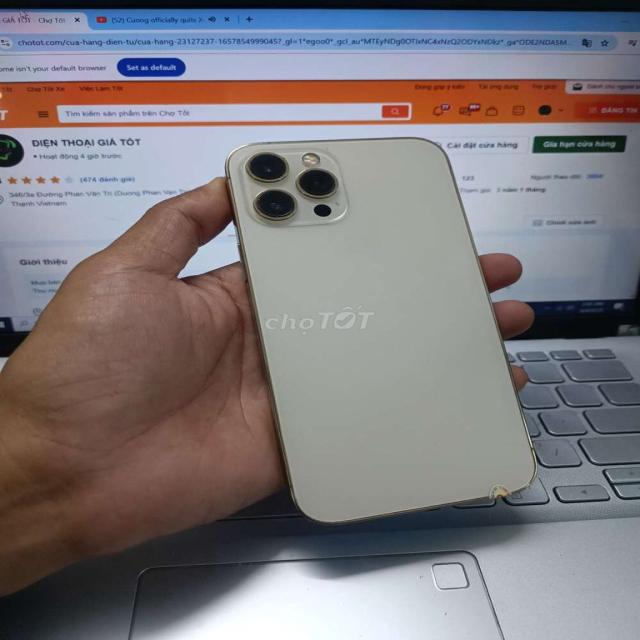gen_12_13: (222, 134, 541, 530)
